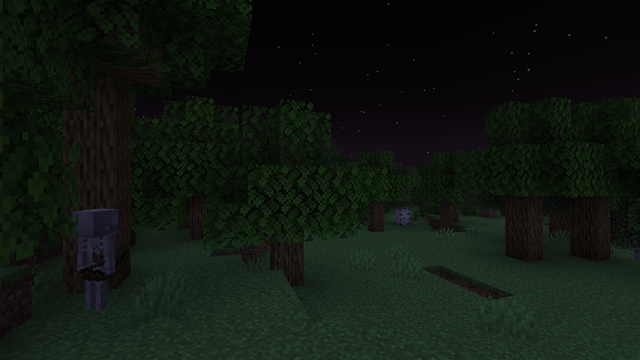squelettes: (69, 208, 119, 317)
